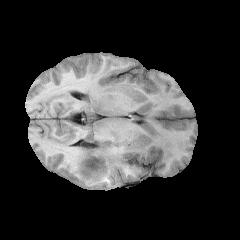glioma: (76, 140, 125, 182)
